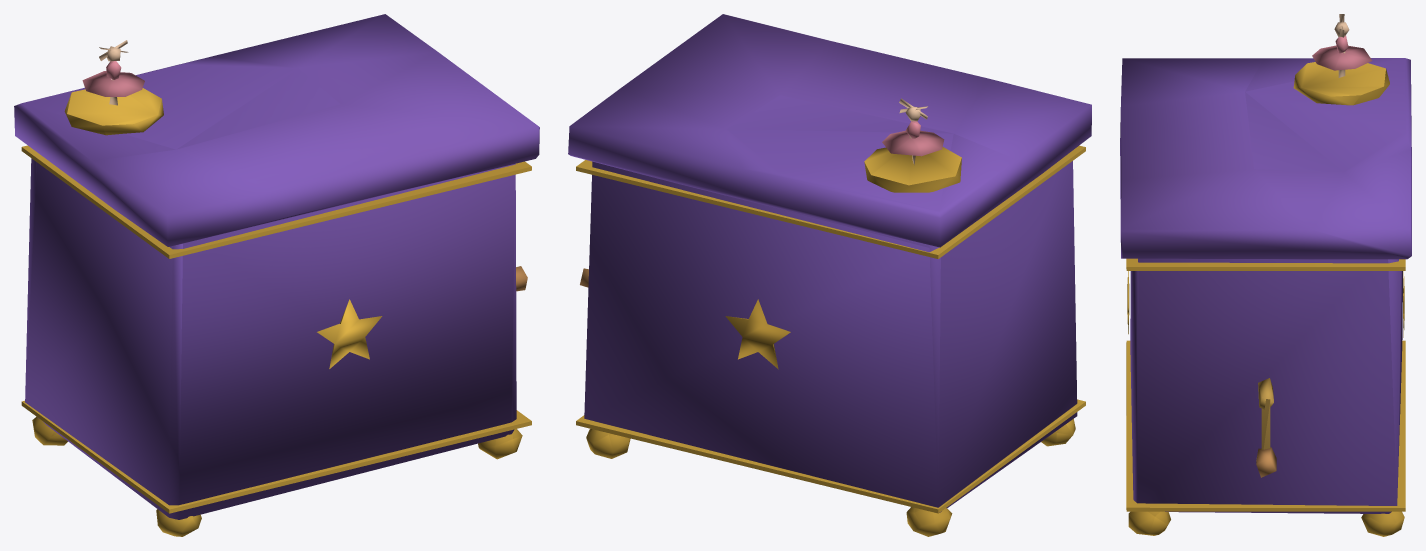
Rendered from den_music_box_lod2.glb.
3 views of the same model, side by side, from view 1: azimuth 30°, elevation 25°; view 2: azimuth 150°, elevation 25°; view 3: azimuth 270°, elevation 25° (orthographic). The views are drawn at different scales.
Parts seen in each view (by area): view 1: den_music_box.001; view 2: den_music_box.001; view 3: den_music_box.001.
Part boxes in pixels (x1,y1,x2,y2): den_music_box.001: [14, 14, 539, 536]; den_music_box.001: [568, 14, 1091, 536]; den_music_box.001: [1120, 14, 1411, 536].
Size of the model in its own units: 16.17 by 14.58 by 10.
